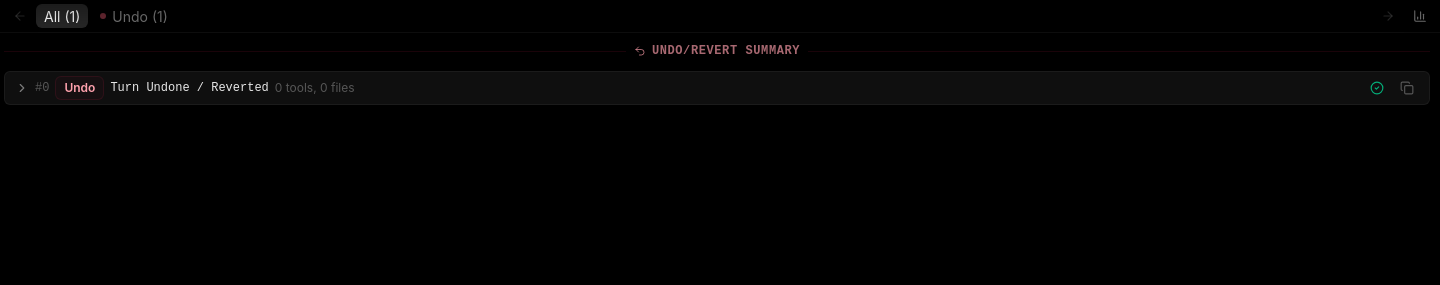
Test: AgentExecutionFlowList › 渲染撤销步骤展开后的上传文件附件
The width and height of the screenshot is (1440, 285).
What coordinates should you click on to do the following:
click the button with class "agent-execution-flow-step-header"
I would click on:
 (80, 88)
Its box is top-left (5, 72), bottom-right (1429, 104).
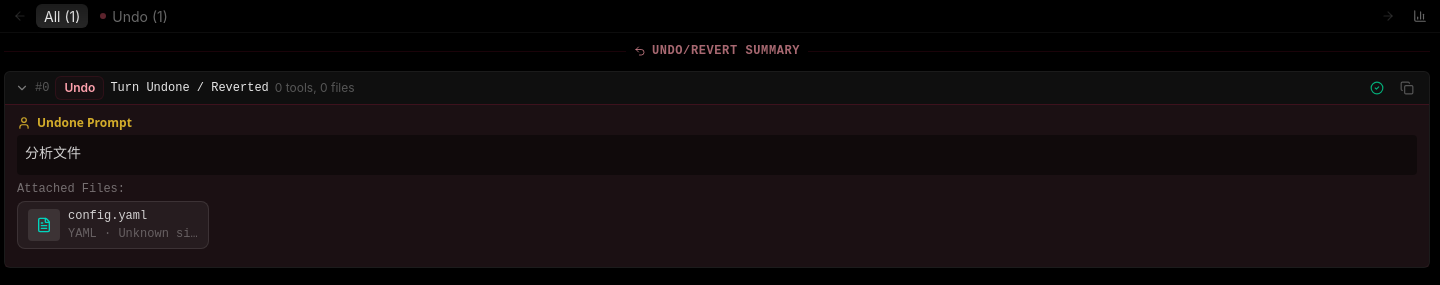
Expected: the text "Attached Files:" is shown, top-left (17, 182), bottom-right (125, 196)
Expected: the text "config.yaml" is shown, top-left (68, 209), bottom-right (147, 223)
